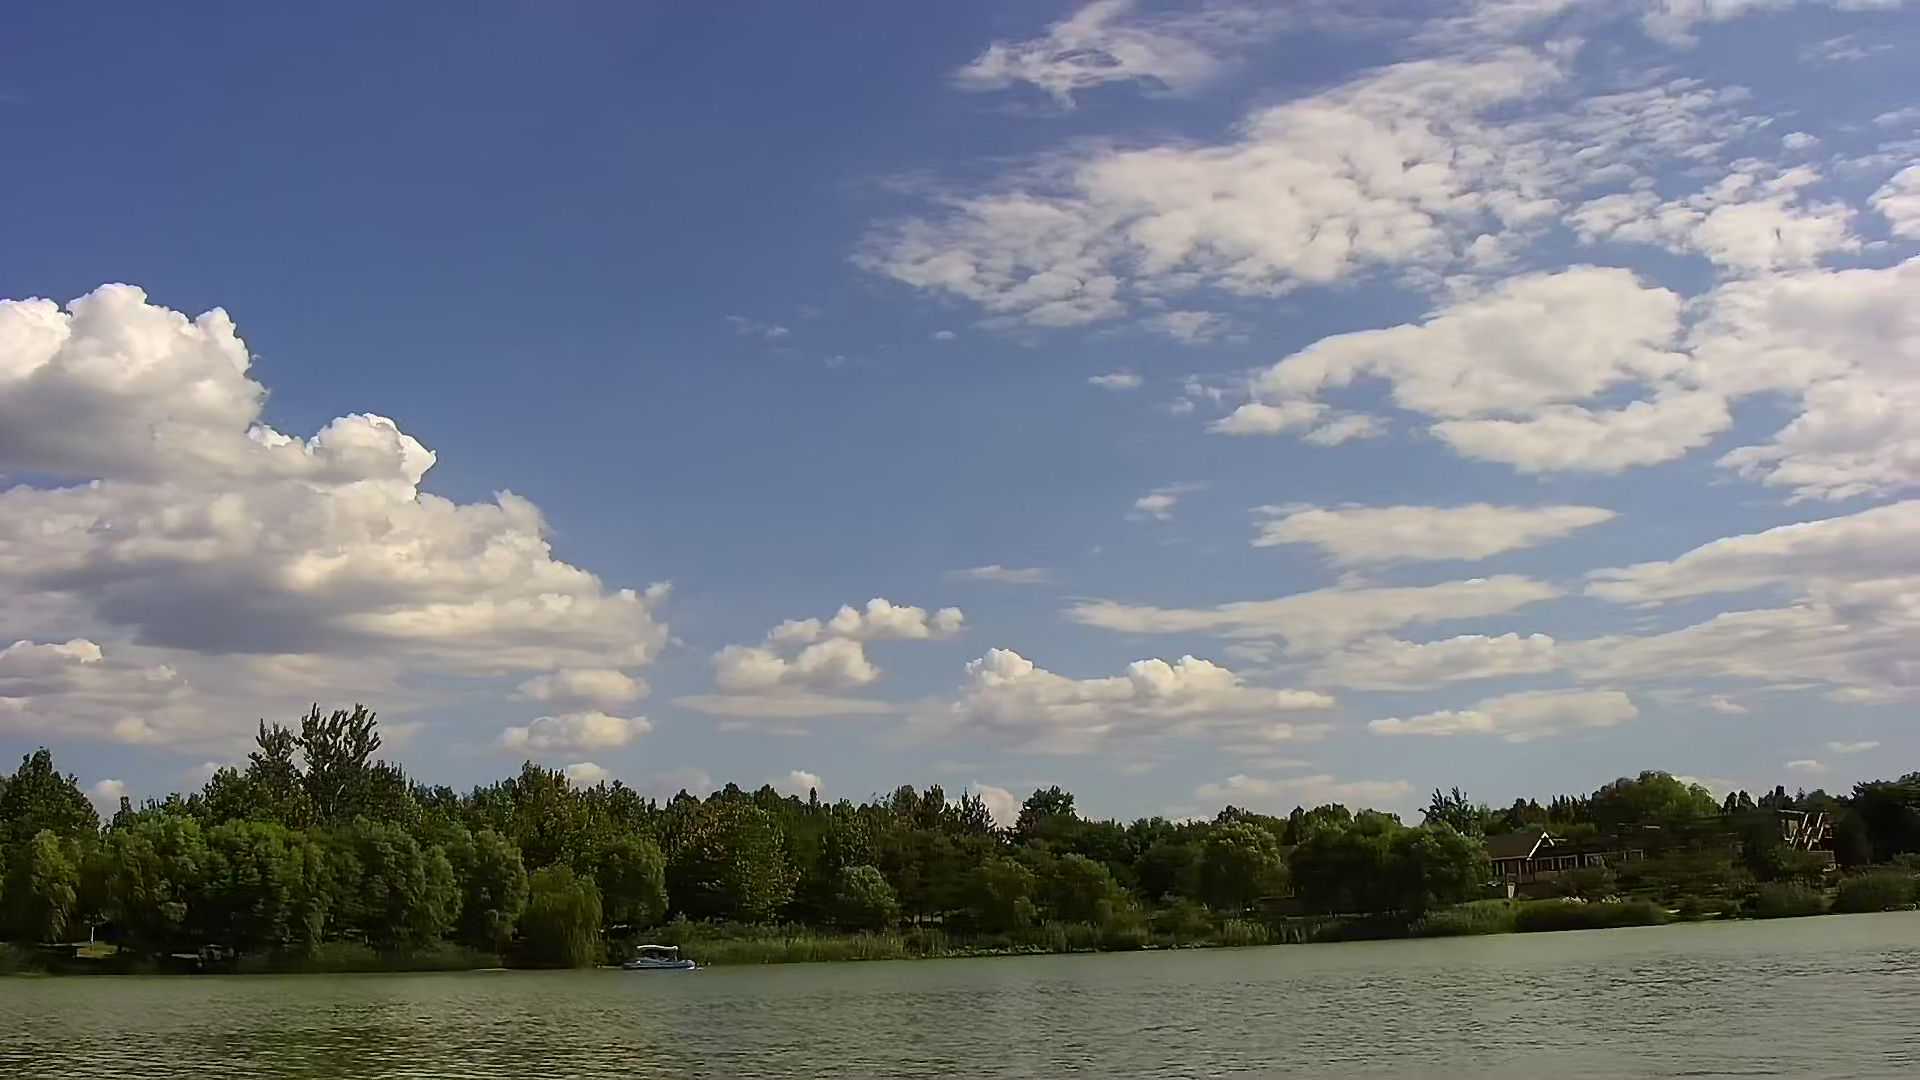boat: (616, 939, 709, 978)
